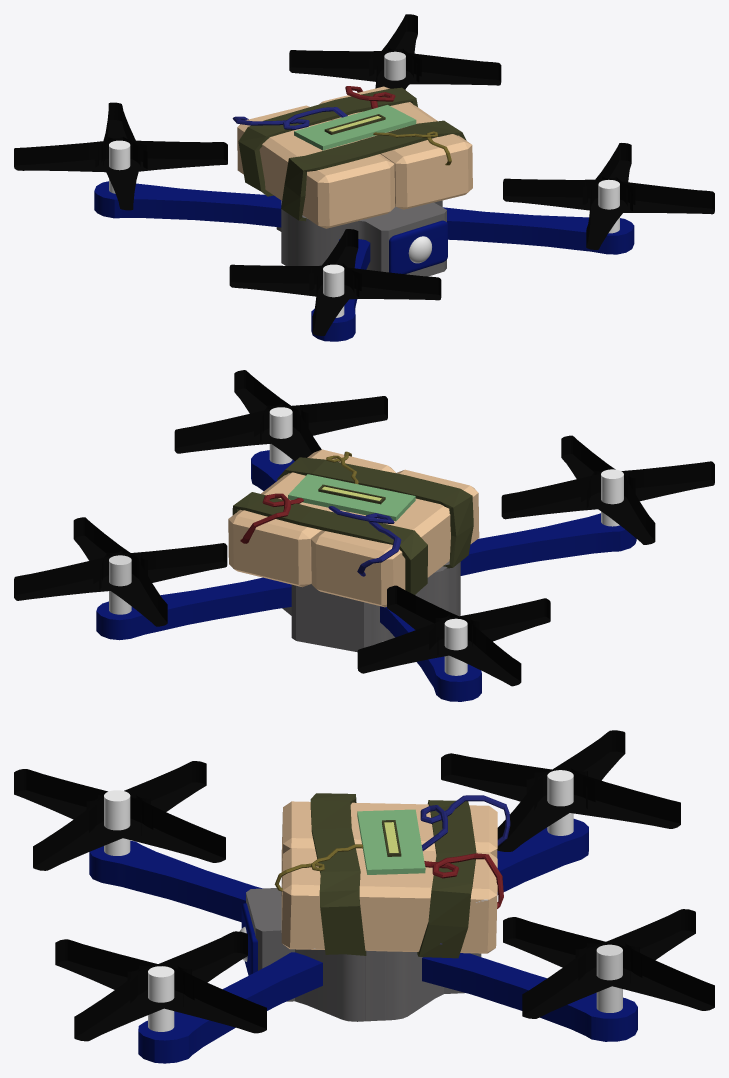
The model's file is dron1.glb.
The picture shows the model from 3 angles, top to bottom: view 1: azimuth 30°, elevation 25°; view 2: azimuth 150°, elevation 25°; view 3: azimuth 270°, elevation 25°; orthographic projection. The views are drawn at different scales.
Parts seen in each view (by area): view 1: Cube, Plane, wirt4, wirt1, wirt2, wirt3, Plane.001, Cube.001, Circle.003, Circle.004, Circle.002, Circle.001; view 2: Cube, Plane, wirt2, wirt3, wirt1, wirt4, Plane.001, Circle.002, Circle.001, Circle.004, Circle.003; view 3: Cube, Plane, wirt3, wirt4, wirt1, wirt2, Plane.001, Circle.001, Circle.004, Circle.003, Circle.002, Cube.001.
Boxes of the visible parts, bbox=[...] form: Cube: bbox=[232, 86, 472, 228]; Plane: bbox=[94, 181, 634, 341]; wirt4: bbox=[503, 143, 714, 249]; wirt1: bbox=[229, 229, 441, 335]; wirt2: bbox=[14, 102, 227, 210]; wirt3: bbox=[289, 14, 501, 89]; Plane.001: bbox=[276, 200, 446, 276]; Cube.001: bbox=[389, 220, 447, 274]; Circle.003: bbox=[323, 264, 344, 317]; Circle.004: bbox=[598, 179, 619, 233]; Circle.002: bbox=[109, 140, 130, 193]; Circle.001: bbox=[384, 51, 405, 89]; Cube: bbox=[228, 449, 479, 607]; Plane: bbox=[96, 450, 636, 701]; wirt2: bbox=[357, 585, 550, 686]; wirt3: bbox=[14, 517, 227, 626]; wirt1: bbox=[501, 435, 714, 544]; wirt4: bbox=[174, 370, 387, 460]; Plane.001: bbox=[282, 561, 460, 652]; Circle.002: bbox=[444, 618, 467, 675]; Circle.001: bbox=[109, 555, 131, 614]; Circle.004: bbox=[269, 407, 292, 464]; Circle.003: bbox=[601, 469, 623, 526]; Cube: bbox=[274, 793, 510, 958]; Plane: bbox=[89, 819, 637, 1063]; wirt3: bbox=[503, 909, 714, 1018]; wirt4: bbox=[55, 931, 266, 1041]; wirt1: bbox=[14, 761, 225, 870]; wirt2: bbox=[441, 730, 680, 851]; Plane.001: bbox=[246, 888, 481, 1021]; Circle.001: bbox=[596, 944, 622, 1012]; Circle.004: bbox=[148, 966, 174, 1031]; Circle.003: bbox=[104, 790, 130, 855]; Circle.002: bbox=[547, 770, 573, 835]; Cube.001: bbox=[241, 903, 257, 975].
Bounding box in the file's own units: 2.75 × 0.6439 × 2.82.
13 materials, 1 textured.
